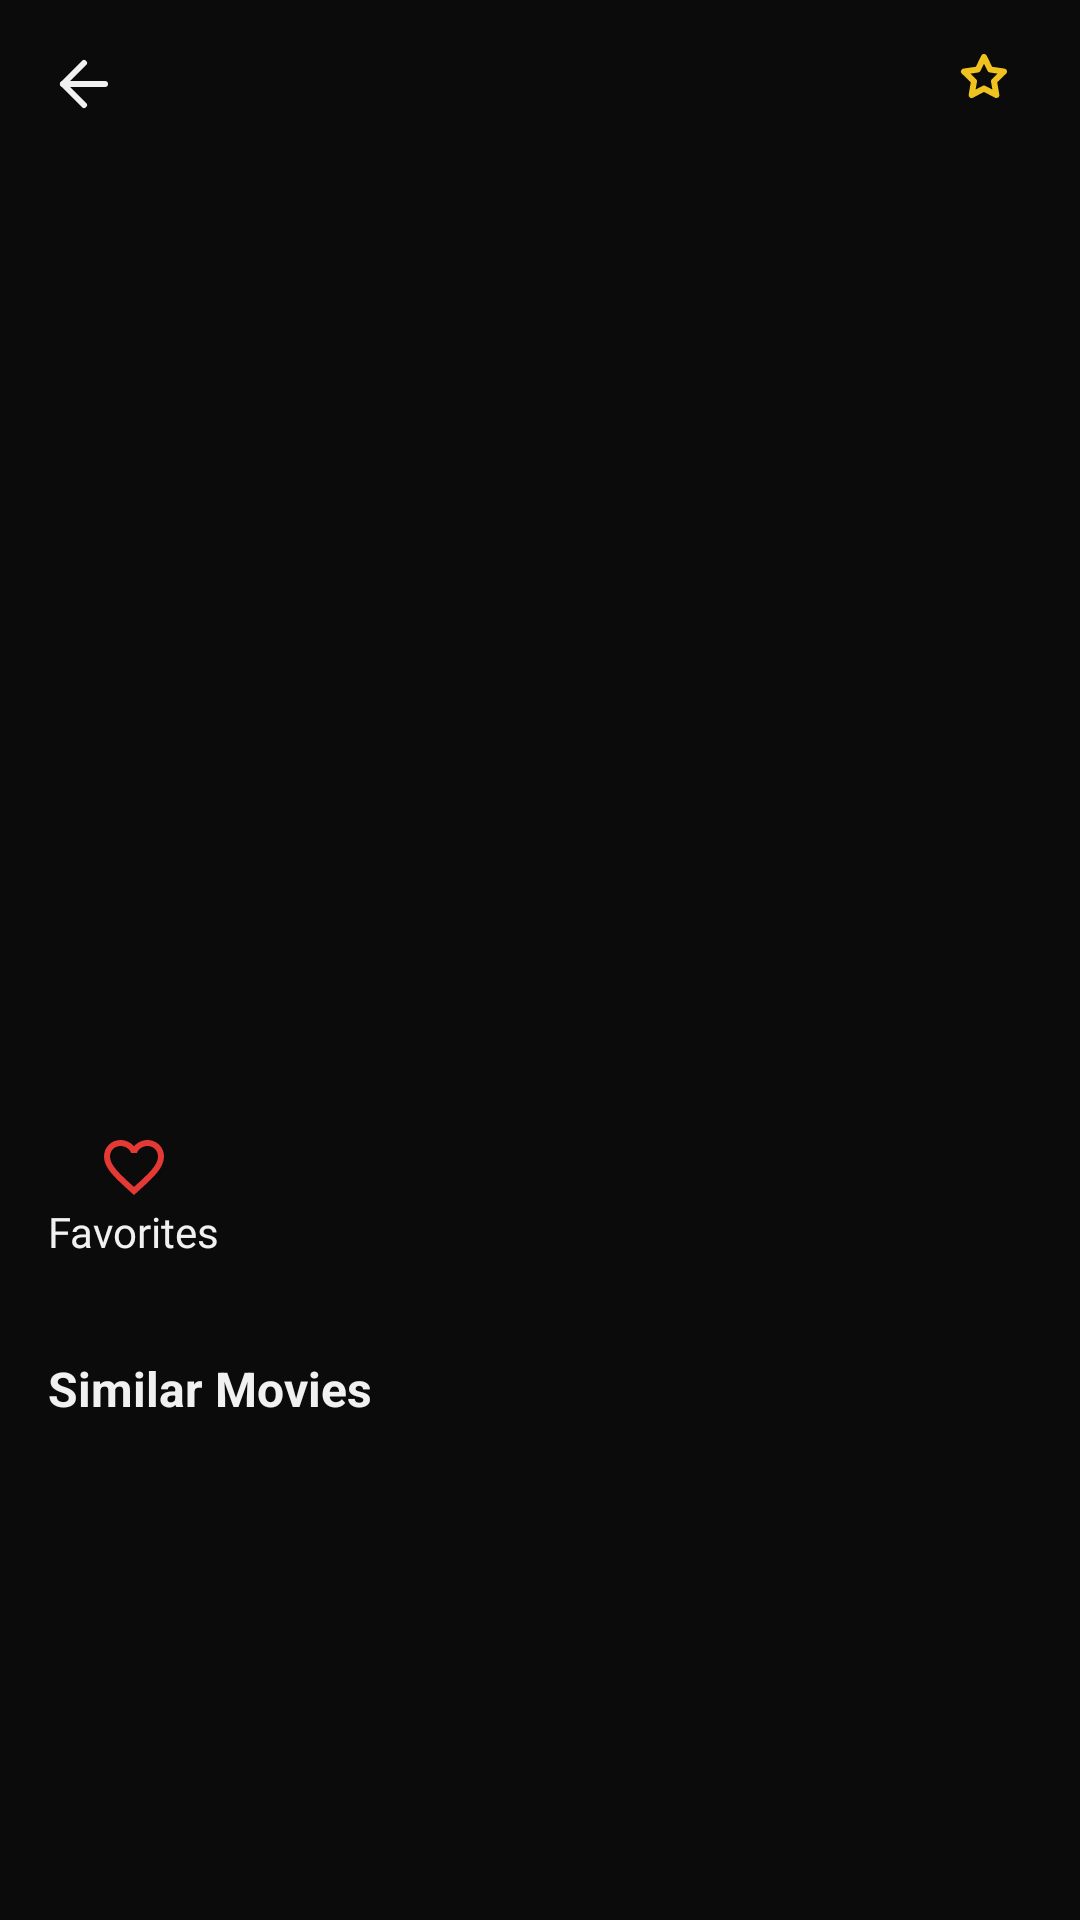

Icon click points for this 1080 x 1920 phone screenshot, format (x=x, y=y):
back: (x=84, y=84)
favorite border: (x=134, y=1167)
star: (x=983, y=76)
